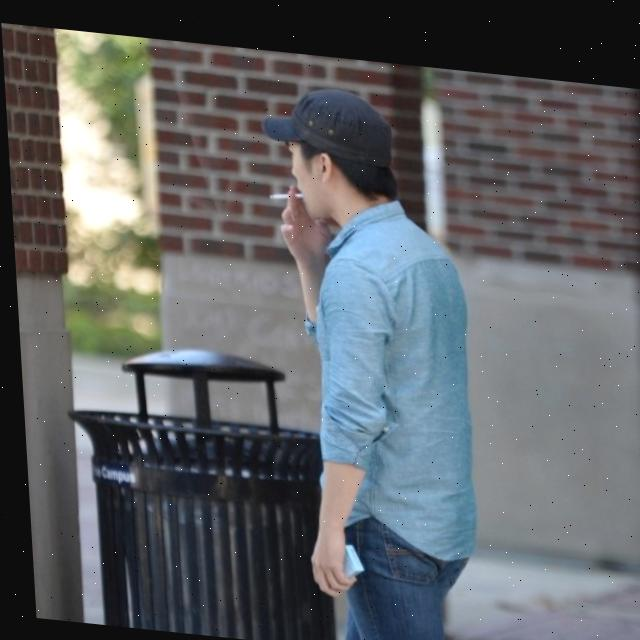cigarette: (266, 184, 301, 195)
